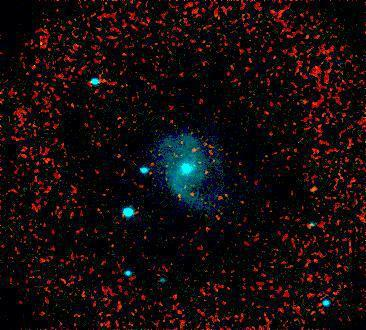star: (302, 172, 332, 202)
